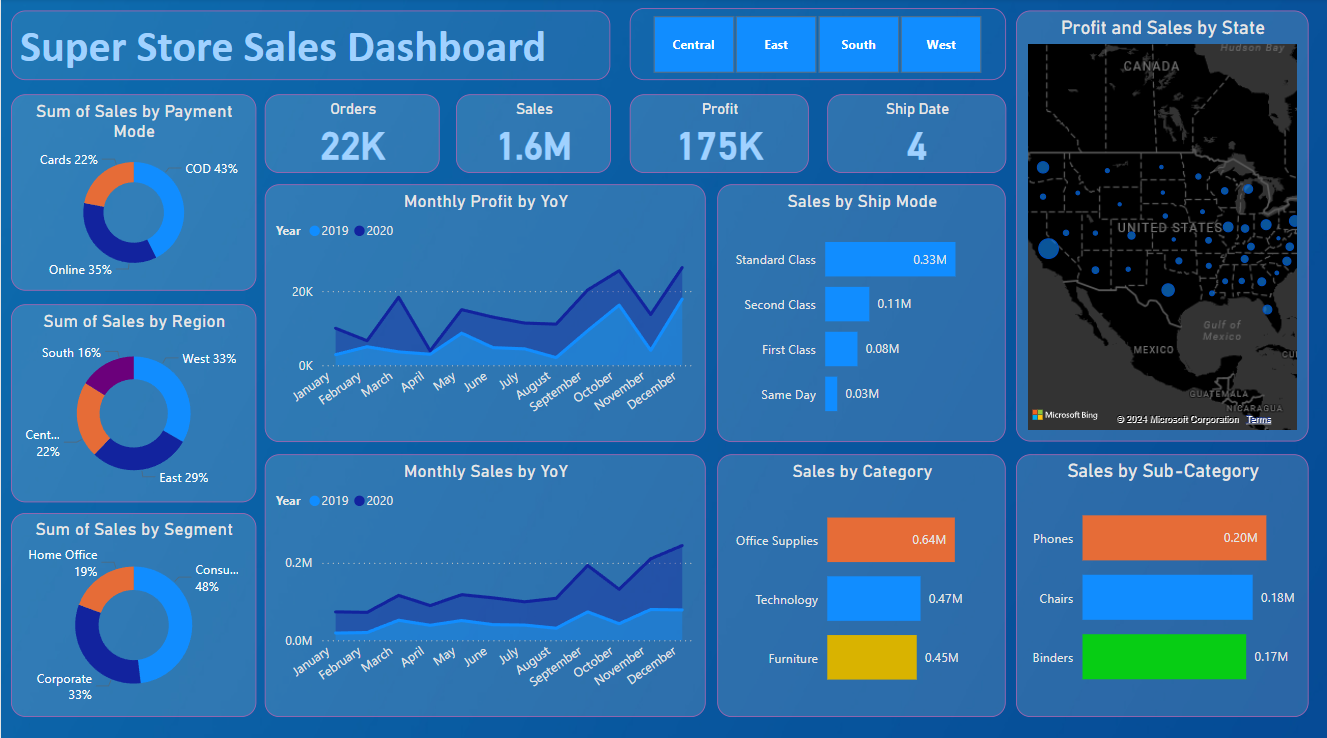

This screenshot's page, from the dashboard's own definition file:
{"tool":"powerbi","page":{"name":"Dashboard","canvas":[1280,720],"ordinal":0},"visuals":[{"type":"clusteredBarChart","title":"Sales by Category","fields":{"Category":["SuperStore_Sales_Dataset.Category"],"Y":["Sum(SuperStore_Sales_Dataset.Sales)"]},"box":[691.3,440.4,278.7,253.4],"z":0},{"type":"clusteredBarChart","title":"Sales by Sub-Category","fields":{"Category":["SuperStore_Sales_Dataset.Sub-Category"],"Y":["Sum(SuperStore_Sales_Dataset.Sales)"]},"box":[980.8,440.4,281.1,253.4],"z":1000},{"type":"clusteredBarChart","title":"Sales by Ship Mode","fields":{"Category":["SuperStore_Sales_Dataset.Ship Mode"],"Y":["Sum(SuperStore_Sales_Dataset.Sales)"]},"box":[691.3,179.8,278.7,248.5],"z":2000},{"type":"stackedAreaChart","title":"Monthly Sales by YoY","fields":{"Category":["SuperStore_Sales_Dataset.Order Date.Variation.Date Hierarchy.Month","SuperStore_Sales_Dataset.Order Date.Variation.Date Hierarchy.Day"],"Y":["Sum(SuperStore_Sales_Dataset.Sales)"],"Series":["SuperStore_Sales_Dataset.Order Date.Variation.Date Hierarchy.Year"]},"box":[254.6,440.4,425.9,253.4],"z":3000},{"type":"stackedAreaChart","title":"Monthly Profit by YoY","fields":{"Category":["SuperStore_Sales_Dataset.Order Date.Variation.Date Hierarchy.Month","SuperStore_Sales_Dataset.Order Date.Variation.Date Hierarchy.Day"],"Series":["SuperStore_Sales_Dataset.Order Date.Variation.Date Hierarchy.Year"],"Y":["Sum(SuperStore_Sales_Dataset.Profit)"]},"box":[254.6,179.8,425.9,248.5],"z":4000},{"type":"map","title":"Profit and Sales by State","fields":{"Size":["Sum(SuperStore_Sales_Dataset.Sales)"],"Category":["SuperStore_Sales_Dataset.State"]},"box":[979.6,12.1,282.3,416.2],"z":5000},{"type":"donutChart","fields":{"Category":["SuperStore_Sales_Dataset.Segment"],"Y":["Sum(SuperStore_Sales_Dataset.Sales)"]},"box":[9.7,497.1,236.5,196.6],"z":6000},{"type":"donutChart","fields":{"Category":["SuperStore_Sales_Dataset.Payment Mode"],"Y":["Sum(SuperStore_Sales_Dataset.Sales)"]},"box":[9.7,92.9,236.5,189.4],"z":7000},{"type":"slicer","fields":{"Values":["SuperStore_Sales_Dataset.Region"]},"box":[606.8,9.7,363.1,70],"z":8000},{"type":"card","title":"Sales","fields":{"Values":["Sum(SuperStore_Sales_Dataset.Sales)"]},"box":[439.1,92.9,149.6,76],"z":9000},{"type":"card","title":"Orders","fields":{"Values":["Sum(SuperStore_Sales_Dataset.Quantity)"]},"box":[254.6,92.9,168.9,76],"z":10000},{"type":"card","title":"Profit","fields":{"Values":["Sum(SuperStore_Sales_Dataset.Profit)"]},"box":[606.8,92.9,172.5,76],"z":11000},{"type":"card","title":"Ship Date","fields":{"Values":["Avg(SuperStore_Sales_Dataset.AvgDelivery)"]},"box":[797.5,92.9,172.5,76],"z":12000},{"type":"donutChart","fields":{"Category":["SuperStore_Sales_Dataset.Region"],"Y":["Sum(SuperStore_Sales_Dataset.Sales)"]},"box":[9.7,295.6,236.5,191],"z":13000},{"type":"textbox","box":[10,12.5,578.8,67.5],"z":14000}]}

Visuals, with their boxes in screenshot pixels (x1, y1, x2, y2), scaled from the page's 1280x720 canvas onto the 1327x738 screenshot:
"Sales by Category" clusteredBarChart: {"x1": 717, "y1": 451, "x2": 1006, "y2": 711}
"Sales by Sub-Category" clusteredBarChart: {"x1": 1017, "y1": 451, "x2": 1308, "y2": 711}
"Sales by Ship Mode" clusteredBarChart: {"x1": 717, "y1": 184, "x2": 1006, "y2": 439}
"Monthly Sales by YoY" stackedAreaChart: {"x1": 264, "y1": 451, "x2": 705, "y2": 711}
"Monthly Profit by YoY" stackedAreaChart: {"x1": 264, "y1": 184, "x2": 705, "y2": 439}
"Profit and Sales by State" map: {"x1": 1016, "y1": 12, "x2": 1308, "y2": 439}
donutChart - SuperStore_Sales_Dataset.Segment x Sum(SuperStore_Sales_Dataset.Sales): {"x1": 10, "y1": 510, "x2": 255, "y2": 711}
donutChart - SuperStore_Sales_Dataset.Payment Mode x Sum(SuperStore_Sales_Dataset.Sales): {"x1": 10, "y1": 95, "x2": 255, "y2": 289}
slicer - SuperStore_Sales_Dataset.Region: {"x1": 629, "y1": 10, "x2": 1006, "y2": 82}
"Sales" card: {"x1": 455, "y1": 95, "x2": 610, "y2": 173}
"Orders" card: {"x1": 264, "y1": 95, "x2": 439, "y2": 173}
"Profit" card: {"x1": 629, "y1": 95, "x2": 808, "y2": 173}
"Ship Date" card: {"x1": 827, "y1": 95, "x2": 1006, "y2": 173}
donutChart - SuperStore_Sales_Dataset.Region x Sum(SuperStore_Sales_Dataset.Sales): {"x1": 10, "y1": 303, "x2": 255, "y2": 499}
textbox: {"x1": 10, "y1": 13, "x2": 610, "y2": 82}
